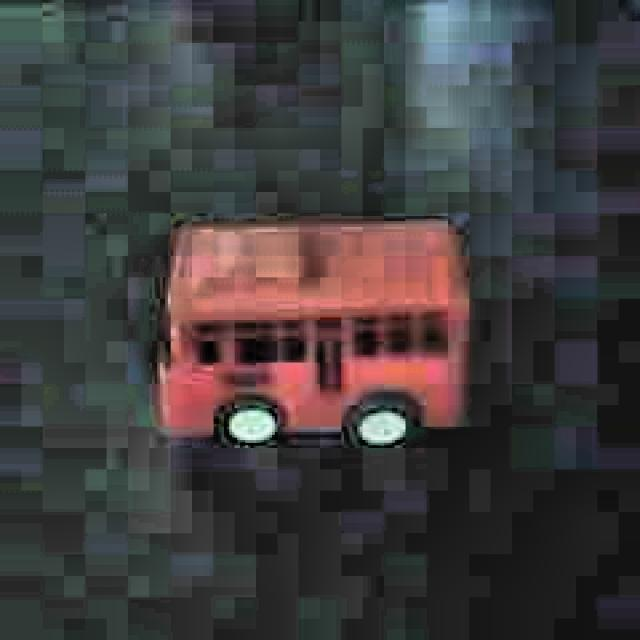bus: (151, 212, 473, 452)
